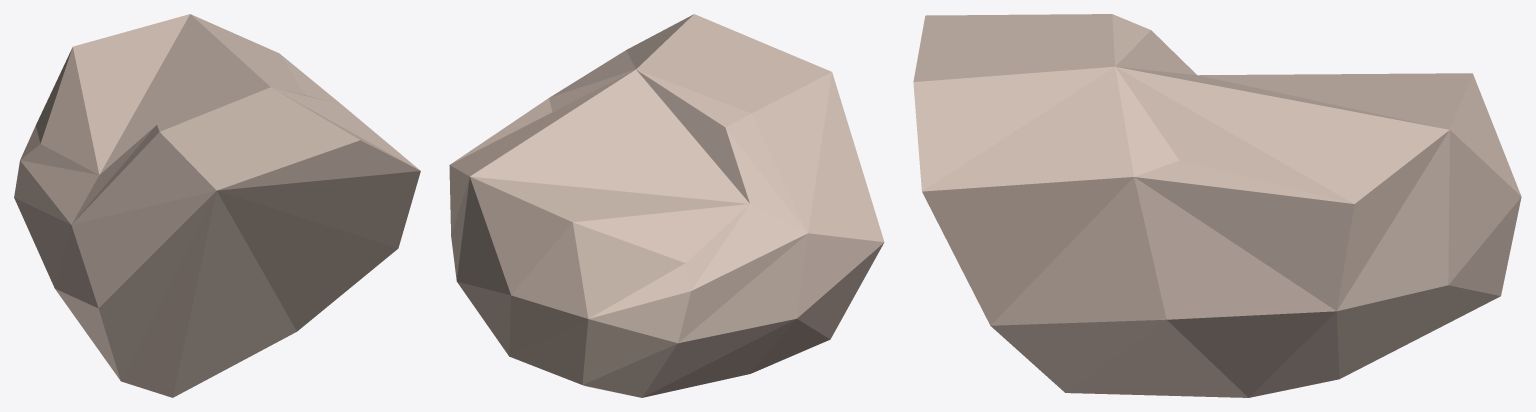
The model's file is LRing3rdPhalange.dae.
3 views of the same model, side by side, from view 1: azimuth 30°, elevation 25°; view 2: azimuth 150°, elevation 25°; view 3: azimuth 270°, elevation 25° (orthographic). The views are drawn at different scales.
Parts seen in each view (by area): view 1: ShapeIndexedFaceSet; view 2: ShapeIndexedFaceSet; view 3: ShapeIndexedFaceSet.
Boxes of the visible parts, box(x1,y1,x2,y2) form: ShapeIndexedFaceSet: box(14, 14, 420, 397); ShapeIndexedFaceSet: box(449, 14, 884, 397); ShapeIndexedFaceSet: box(913, 14, 1521, 397).
Bounding box in the file's own units: 0.0152 × 0.0186 × 0.0125.
